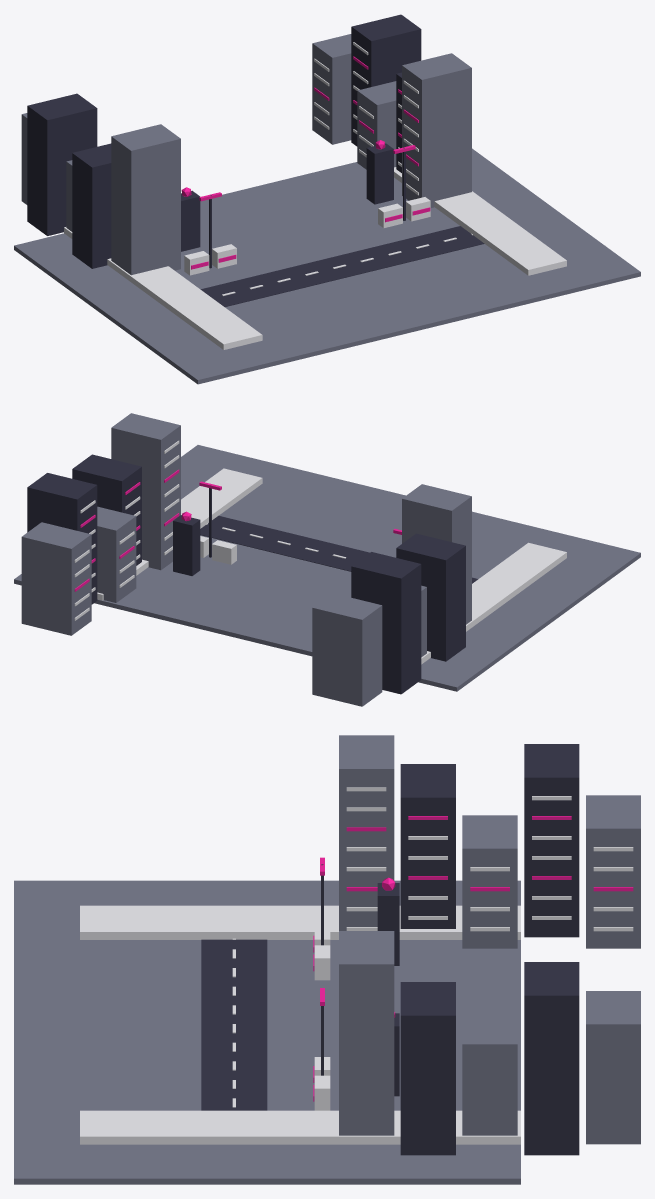
The model's file is district_4.glb.
The picture shows the model from 3 angles, top to bottom: view 1: azimuth 30°, elevation 25°; view 2: azimuth 150°, elevation 25°; view 3: azimuth 270°, elevation 25°; orthographic projection. The views are drawn at different scales.
Visible parts, largest first — view 1: ArenaFloor, Building, Building.005, Building.003, FightLane, Sidewalk, Building.001, Sidewalk.001, Building.008, Building.009, Building.007, Speaker.001 (+2 smaller); view 2: ArenaFloor, Building.004, Building.009, Building.003, Building.005, Building.001, Building, Building.008, FightLane, Sidewalk, Building.007, Building.006 (+3 smaller); view 3: ArenaFloor, Building.005, FightLane, Building.008, Sidewalk.001, Sidewalk, Building.003, Building.006, Building, Building.009, Building.001, Building.004 (+3 smaller).
Boxes of the visible parts, left/top/right/bottom form: ArenaFloor: left=14, top=148, right=640, bottom=384; Building: left=111, top=124, right=180, bottom=275; Building.005: left=402, top=53, right=471, bottom=207; Building.003: left=27, top=93, right=97, bottom=235; FightLane: left=200, top=226, right=484, bottom=306; Sidewalk: left=64, top=227, right=262, bottom=349; Building.001: left=72, top=143, right=111, bottom=268; Sidewalk.001: left=394, top=167, right=566, bottom=275; Building.008: left=351, top=14, right=421, bottom=146; Building.009: left=312, top=34, right=351, bottom=144; Building.007: left=357, top=81, right=396, bottom=169; Speaker.001: left=366, top=143, right=393, bottom=204; ArenaFloor: left=14, top=445, right=640, bottom=691; Building.004: left=312, top=593, right=382, bottom=706; Building.009: left=21, top=522, right=91, bottom=635; Building.003: left=351, top=552, right=421, bottom=694; Building.005: left=111, top=413, right=180, bottom=570; Building.001: left=396, top=533, right=465, bottom=661; Building: left=402, top=484, right=471, bottom=624; Building.008: left=27, top=473, right=97, bottom=604; FightLane: left=200, top=515, right=478, bottom=583; Sidewalk: left=421, top=542, right=566, bottom=664; Building.007: left=97, top=506, right=136, bottom=602; Building.006: left=72, top=454, right=141, bottom=565; ArenaFloor: left=14, top=880, right=520, bottom=1184; Building.005: left=339, top=931, right=394, bottom=1135; FightLane: left=201, top=939, right=267, bottom=1110; Building.008: left=524, top=962, right=579, bottom=1155; Sidewalk.001: left=80, top=1110, right=520, bottom=1144; Sidewalk: left=80, top=905, right=520, bottom=939; Building.003: left=524, top=744, right=579, bottom=937; Building.006: left=400, top=982, right=455, bottom=1155; Building: left=339, top=735, right=394, bottom=930; Building.009: left=586, top=991, right=640, bottom=1144; Building.001: left=400, top=764, right=455, bottom=928; Building.004: left=586, top=795, right=640, bottom=948.
Bounding box in the file's own units: 32 × 9.3 × 28.45.
